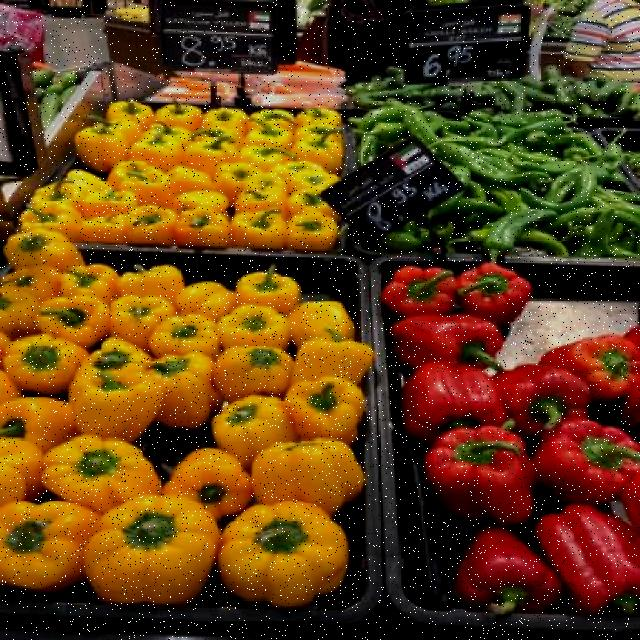Bell Pepper: (6, 252, 348, 599), (373, 259, 638, 618)
